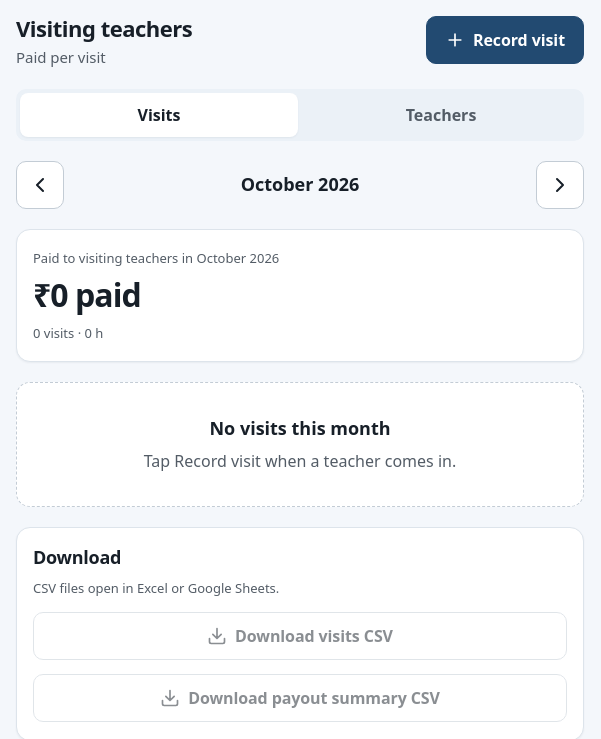
Test: recording visits › quick buttons set the hours
The image size is (601, 739).
Click the button "Record visit" at (505, 40), box [426,16,584,64]
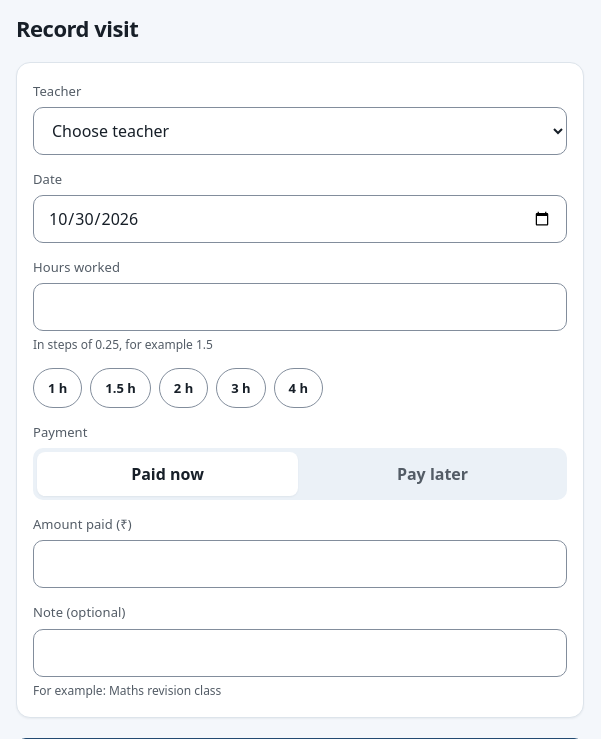
Click the button named "Set hours to 1.5" at (121, 388), box [90,368,151,408]
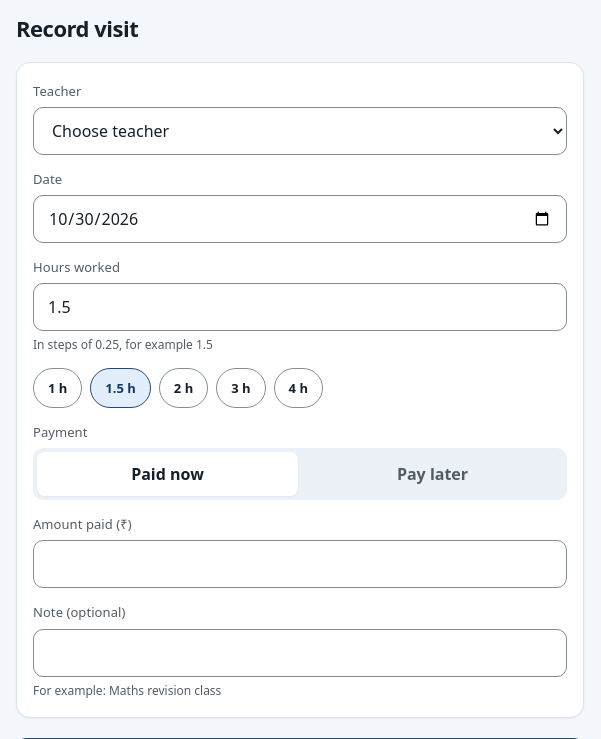
Expected: the field labelled "Hours worked" holds "1.5", [33,283,567,331]
